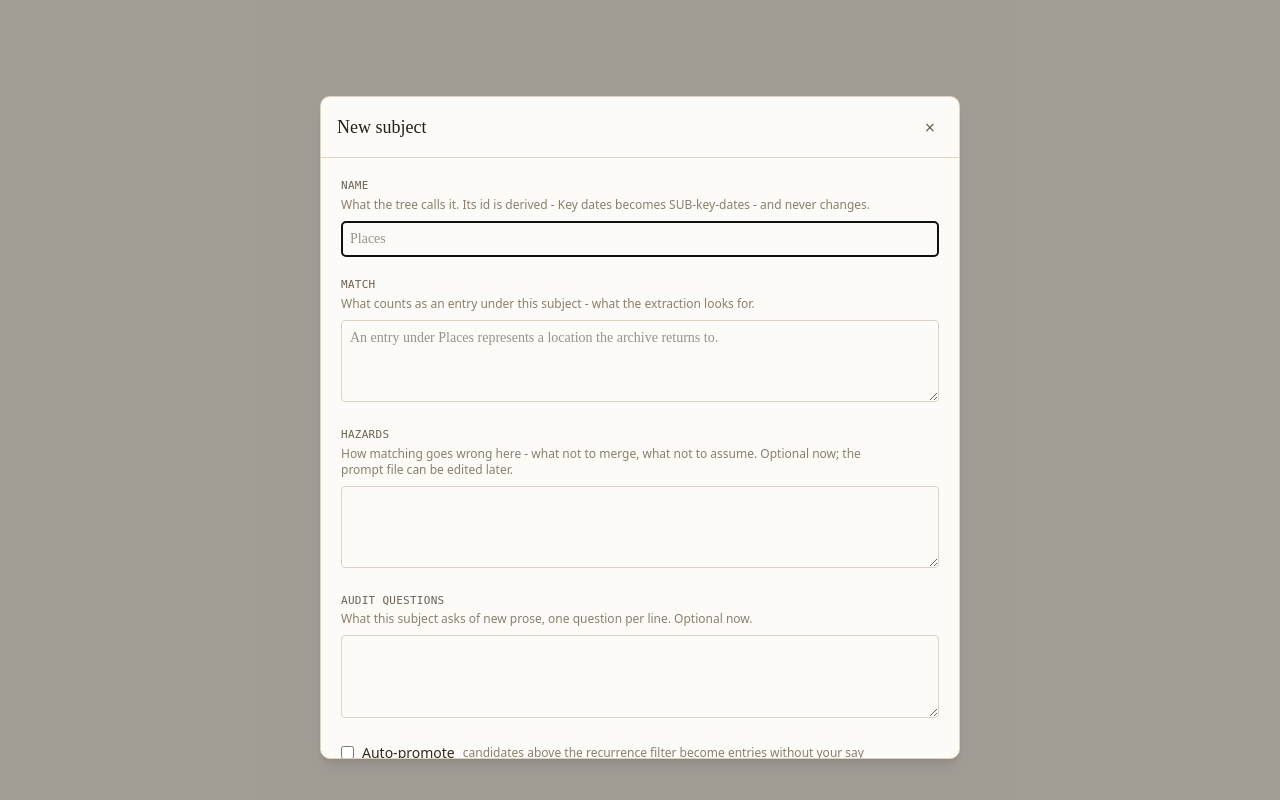
Test: the New subject dialog (ADR-0014) › needs a name and a match before Create is enabled
This screenshot has width=1280, height=800.
Type "Key dates" into the field named "Name" at (640, 239), box top-left (341, 220), bottom-right (939, 257)
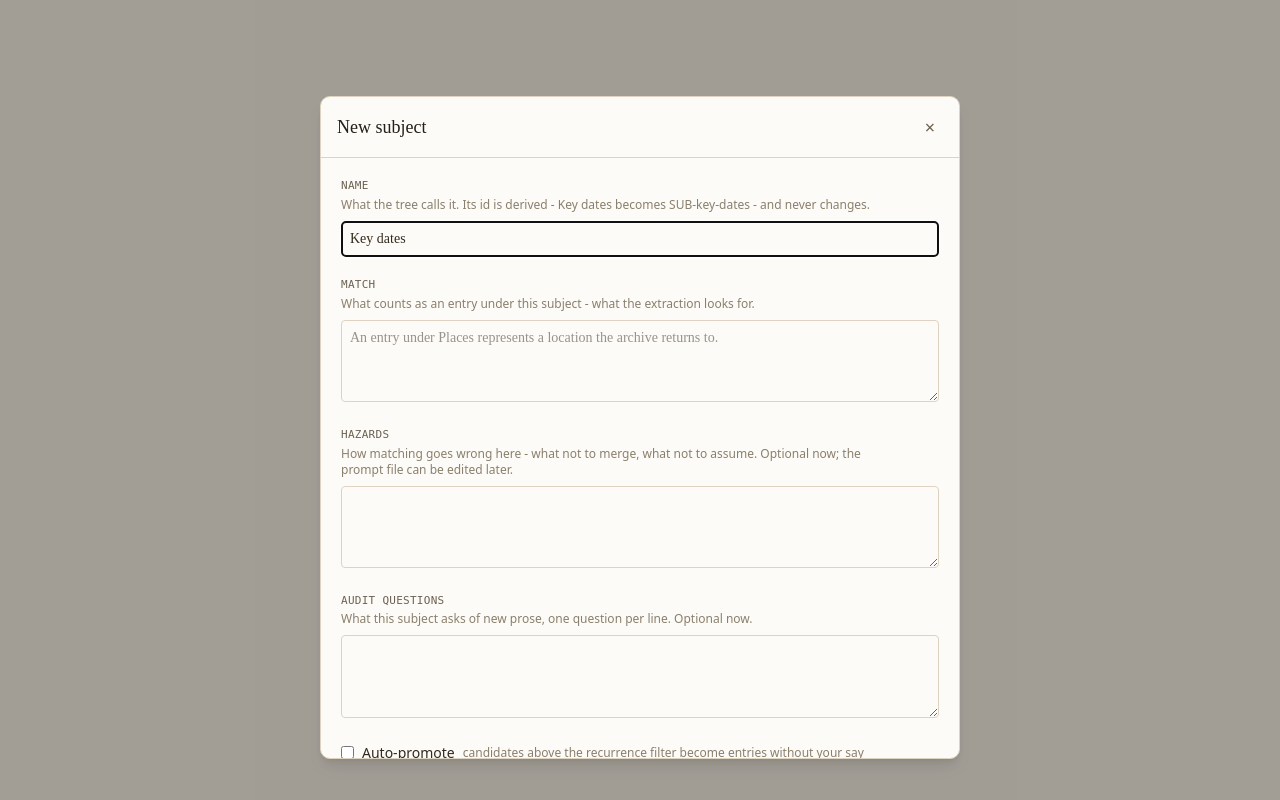
Replace the text in the text box named "Match" with "A date." at (640, 361), box top-left (341, 320), bottom-right (939, 402)
(page scrolled)
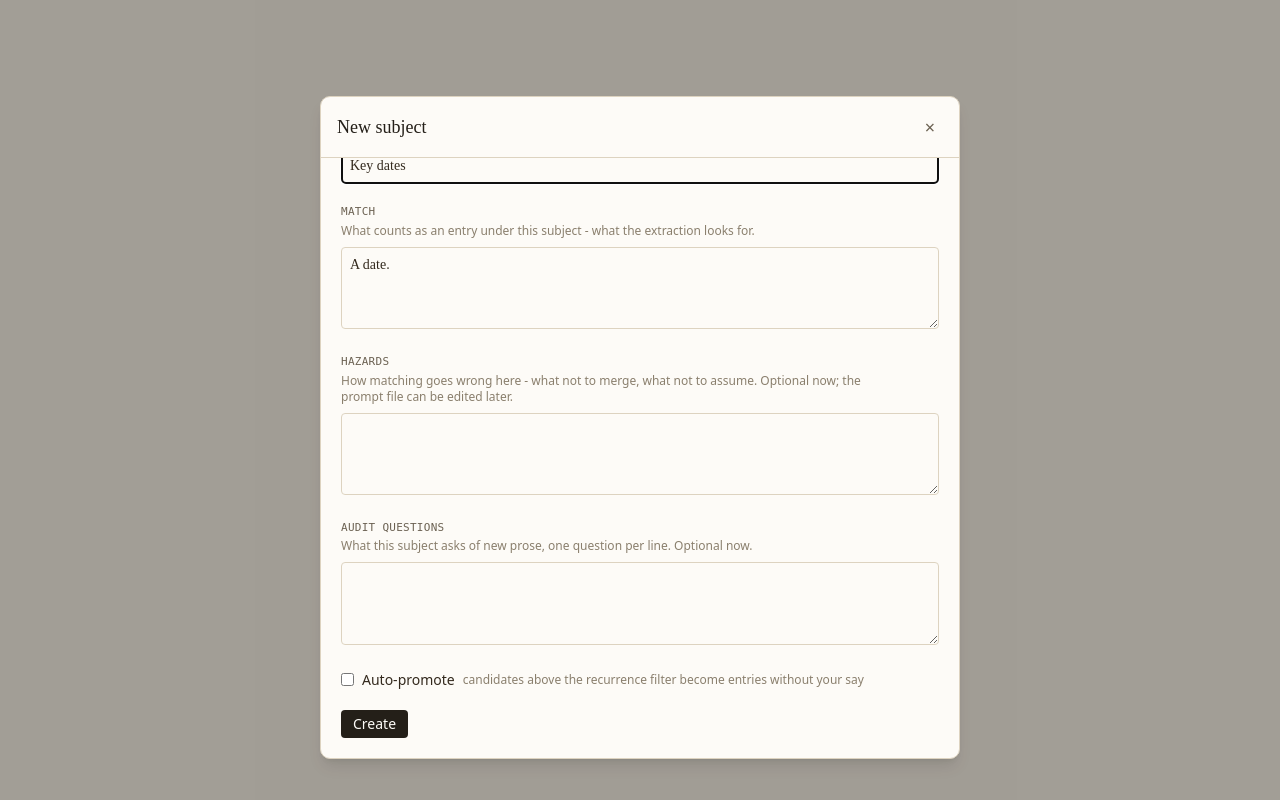
Expected: the button "Create" is enabled, top-left (341, 710), bottom-right (408, 738)
